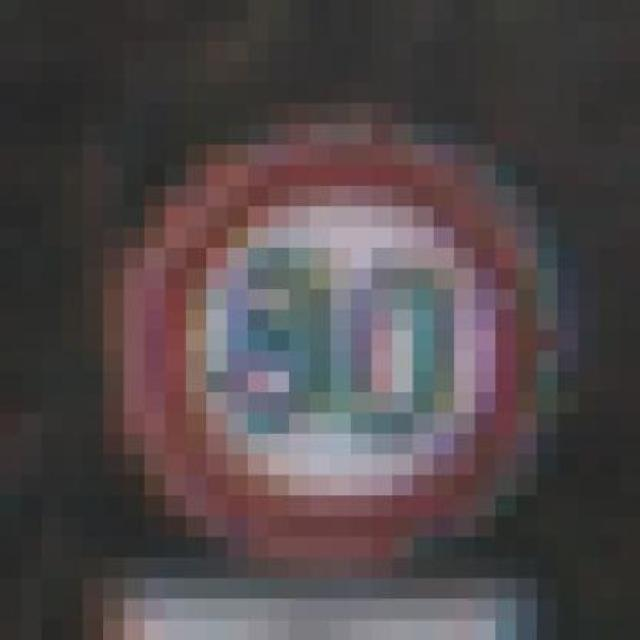forb_speed_over_80: (135, 129, 544, 573)
